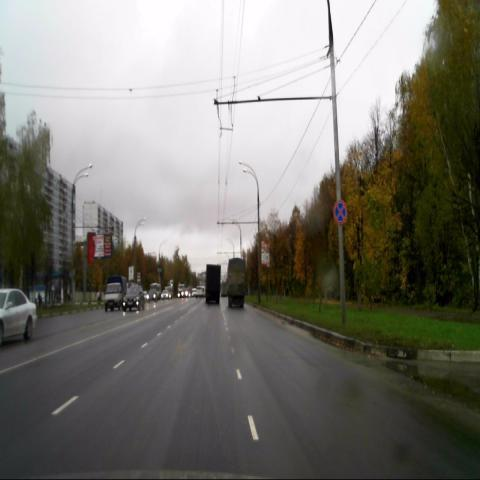3_27: (333, 198, 347, 224)
